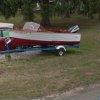Boat: (6, 17, 86, 58)
